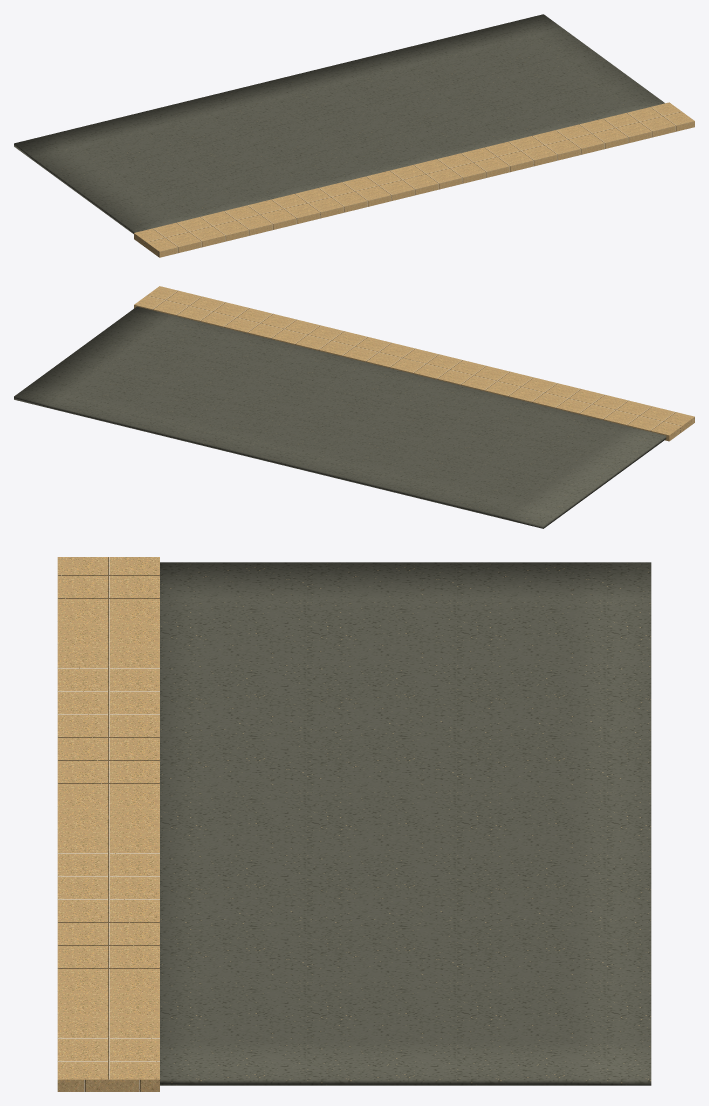
File: EgyptStreet.fbx
The picture shows the model from 3 angles, top to bottom: view 1: azimuth 30°, elevation 25°; view 2: azimuth 150°, elevation 25°; view 3: azimuth 270°, elevation 25°; orthographic projection. The views are drawn at different scales.
Visible parts, largest first — view 1: Street, Cube.005; view 2: Street, Cube.005; view 3: Street, Cube.005.
Boxes of the visible parts, x1=… form: Street: x1=14, y1=14, x2=664, y2=233; Cube.005: x1=134, y1=102, x2=694, y2=257; Street: x1=14, y1=306, x2=666, y2=528; Cube.005: x1=134, y1=286, x2=694, y2=441; Street: x1=160, y1=562, x2=651, y2=1085; Cube.005: x1=57, y1=557, x2=159, y2=1091.
Bounding box in the file's own units: 5118 × 55.63 × 2458.
